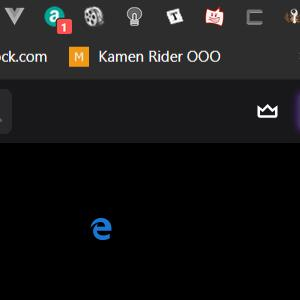edge: (91, 217, 112, 241)
